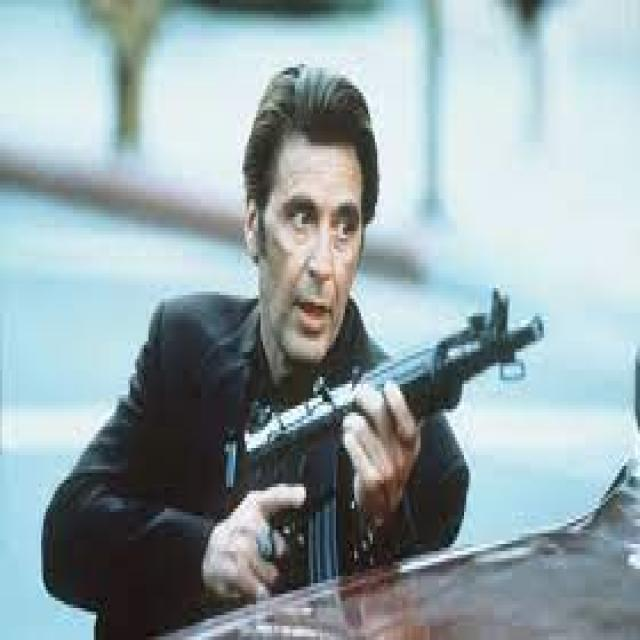weapons: (188, 291, 587, 599)
